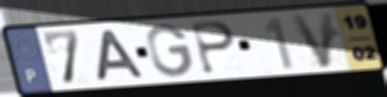1: (263, 16, 295, 71)
7: (40, 28, 83, 87)
A: (94, 29, 147, 83)
G: (144, 23, 195, 79)
P: (189, 19, 238, 76)
V: (287, 9, 336, 70)
